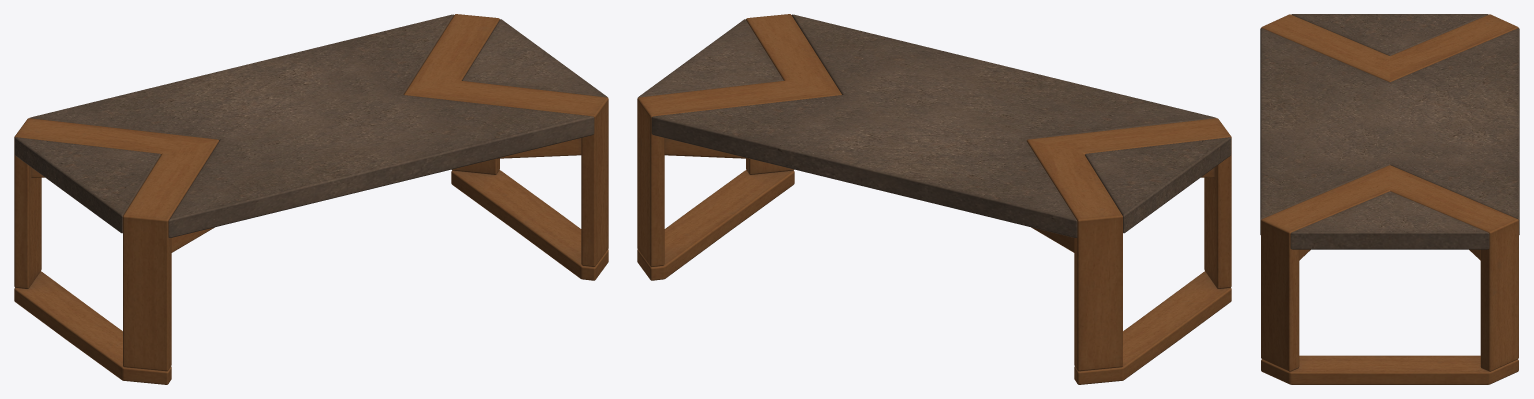
The model's file is alternate.glb.
The picture shows the model from 3 angles, left to right: view 1: azimuth 30°, elevation 25°; view 2: azimuth 150°, elevation 25°; view 3: azimuth 270°, elevation 25°; orthographic projection. The views are drawn at different scales.
Visible parts, largest first — view 1: modern_coffee_table_01; view 2: modern_coffee_table_01; view 3: modern_coffee_table_01.
Part boxes in pixels (x1,y1,x2,y2): modern_coffee_table_01: (14, 14, 608, 384); modern_coffee_table_01: (637, 14, 1231, 384); modern_coffee_table_01: (1260, 14, 1519, 384).
Size of the model in its own units: 1.2 by 0.39 by 0.6.
Materials: 1 (1 with a texture image).
